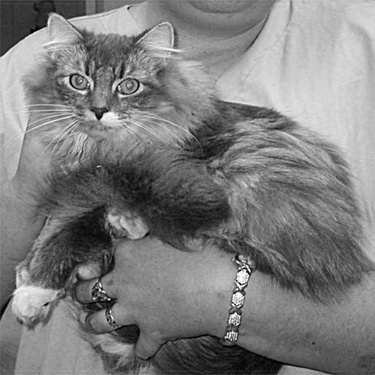cat: (11, 12, 365, 361)
